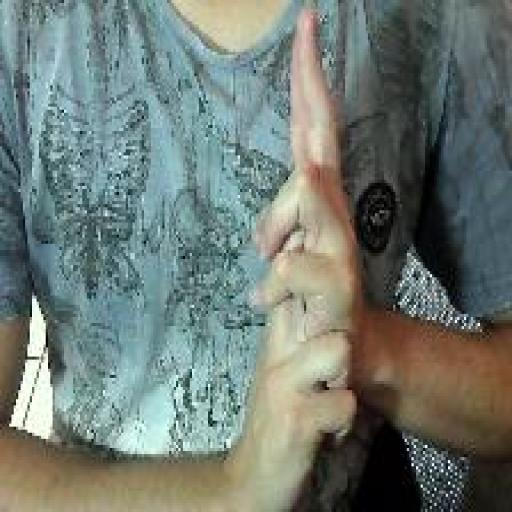Hitsuji -ram-: (248, 6, 365, 509)
